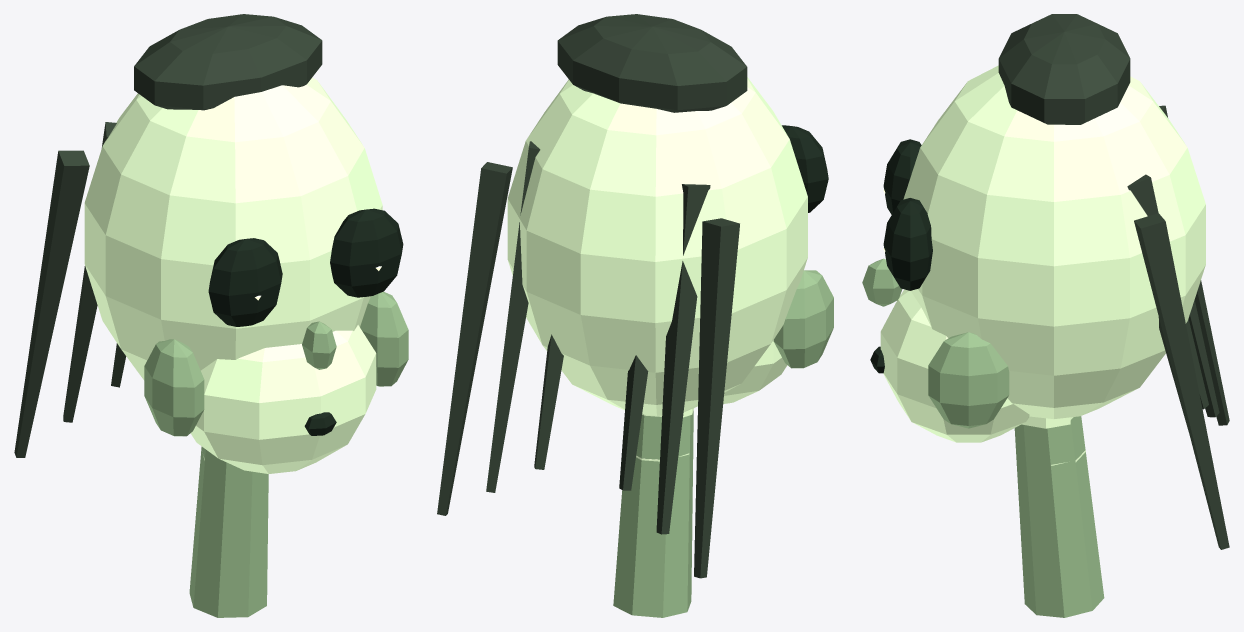
Rendered from hungry_ghost_head.glb.
The picture shows the model from 3 angles, left to right: view 1: azimuth 30°, elevation 25°; view 2: azimuth 150°, elevation 25°; view 3: azimuth 270°, elevation 25°; orthographic projection.
Parts seen in each view (by area): view 1: hungry_ghost_head; view 2: hungry_ghost_head; view 3: hungry_ghost_head.
Part boxes in pixels (box(x1,y1,x2,y2)): hungry_ghost_head: box(14, 14, 408, 617); hungry_ghost_head: box(437, 14, 833, 617); hungry_ghost_head: box(862, 14, 1229, 617).
Bounding box in the file's own units: 0.5731 × 1.19 × 0.6903.
